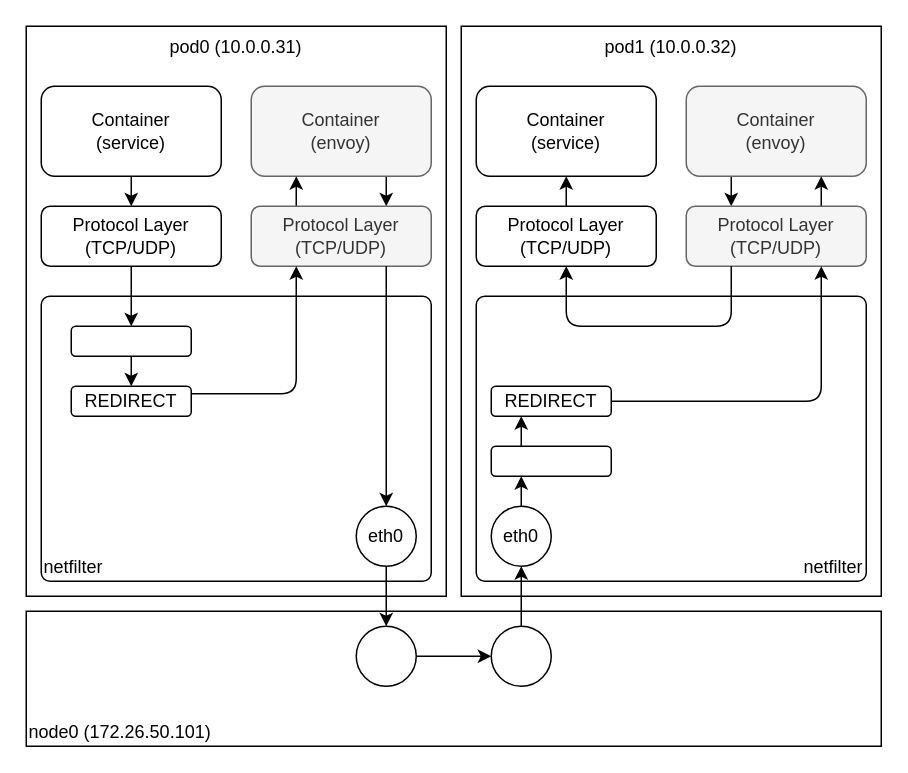
The diagram is 908 pixels wide and 773 high, and some of its shapes have lost their labels. Here are the shapes that lost their labels. From the top down, the centre of each, then its label:
At point (130, 340): "OUTPUT".
At point (550, 460): "INPUT".
At point (385, 655): "veth0".
At point (520, 655): "veth1".
